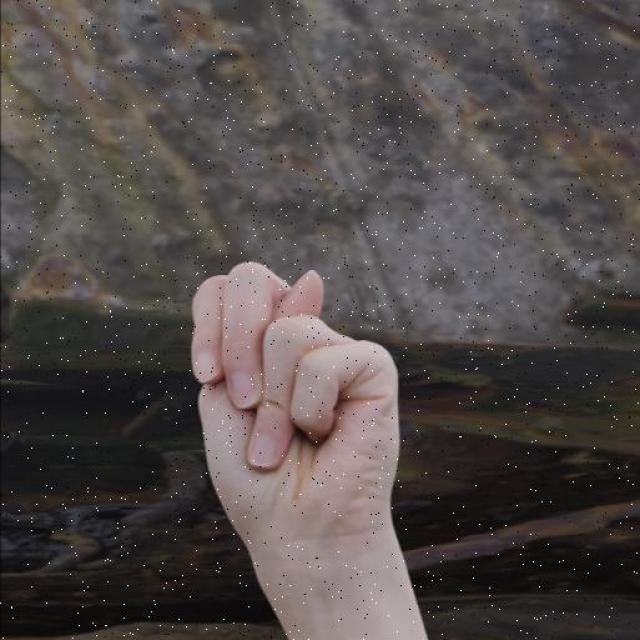N: (183, 257, 406, 554)
